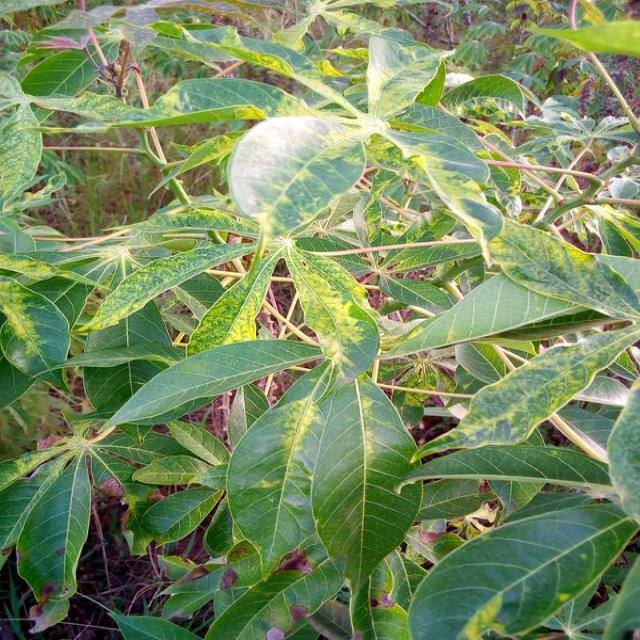cassava leaf: (0, 5, 638, 638), (227, 113, 366, 238)
